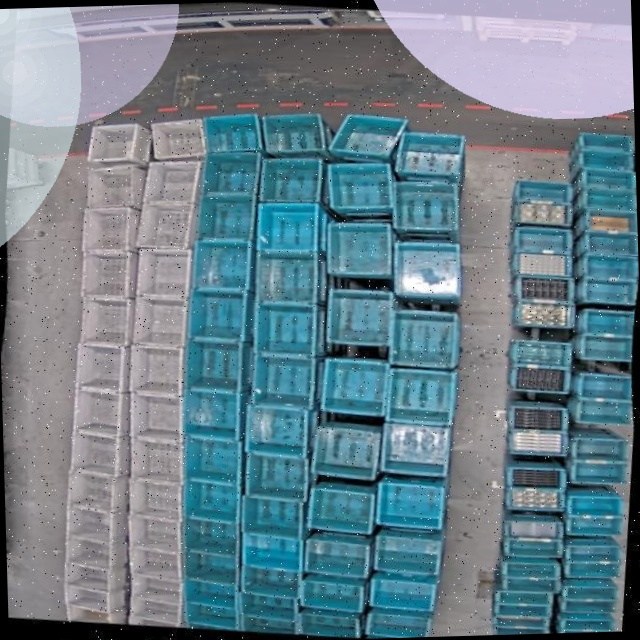Box: (323, 214, 399, 280), (326, 107, 414, 161), (317, 354, 391, 418), (384, 365, 459, 427), (309, 420, 386, 480), (389, 304, 461, 368), (392, 235, 464, 299), (386, 176, 463, 235), (325, 284, 397, 346), (325, 155, 399, 215), (253, 245, 324, 306), (255, 149, 330, 206), (393, 125, 469, 181), (250, 350, 318, 412), (254, 195, 323, 255), (180, 335, 251, 393), (254, 297, 321, 358), (381, 419, 452, 476), (184, 284, 251, 342), (199, 143, 267, 200), (306, 481, 378, 534), (259, 106, 332, 158), (243, 403, 313, 457), (143, 153, 210, 209), (375, 478, 448, 529), (242, 448, 312, 501), (190, 235, 255, 292), (195, 189, 261, 245), (134, 197, 203, 250), (182, 385, 247, 440), (80, 200, 143, 256), (201, 106, 269, 157), (82, 158, 147, 211), (136, 244, 197, 300), (77, 246, 141, 299), (240, 491, 309, 540), (179, 433, 244, 485), (127, 342, 188, 397), (129, 293, 191, 347), (75, 291, 135, 346), (69, 385, 133, 436), (148, 112, 212, 162), (128, 391, 189, 442), (376, 530, 445, 575), (88, 119, 153, 165), (126, 435, 187, 484), (68, 429, 130, 477), (65, 468, 131, 513), (303, 534, 371, 577), (71, 341, 128, 392), (242, 531, 308, 572), (299, 574, 367, 613), (182, 477, 240, 522), (130, 475, 186, 521), (127, 511, 184, 555), (182, 514, 240, 557), (370, 573, 437, 610), (65, 505, 128, 542), (66, 534, 130, 570), (128, 543, 186, 582), (181, 548, 240, 586), (365, 607, 435, 639), (63, 561, 127, 595), (512, 296, 577, 329), (511, 223, 578, 254), (507, 197, 574, 228), (179, 575, 238, 610), (64, 582, 127, 614), (508, 362, 573, 393), (506, 401, 567, 434), (241, 564, 300, 598), (509, 426, 570, 458), (511, 336, 573, 367), (512, 247, 574, 278), (503, 462, 567, 492), (296, 609, 362, 638), (240, 590, 299, 622), (515, 271, 576, 301), (577, 395, 636, 426), (504, 484, 567, 513), (514, 177, 577, 206), (128, 592, 185, 624), (130, 571, 183, 605), (582, 274, 640, 305), (572, 433, 628, 465), (502, 532, 567, 559), (576, 371, 633, 401), (583, 250, 639, 280), (580, 331, 634, 362), (572, 457, 629, 486), (184, 600, 241, 629), (568, 492, 625, 520), (503, 514, 564, 540), (567, 511, 624, 538), (583, 306, 636, 335), (586, 228, 638, 256), (586, 206, 638, 234), (566, 556, 624, 581), (565, 540, 623, 565), (500, 571, 563, 594), (583, 185, 637, 211), (562, 593, 622, 616), (579, 147, 634, 172), (562, 580, 619, 604), (493, 585, 555, 607), (579, 127, 635, 151), (67, 602, 128, 624), (241, 612, 299, 635), (584, 165, 636, 189), (503, 557, 562, 578), (491, 609, 553, 628), (562, 613, 618, 633), (493, 599, 554, 617), (494, 620, 547, 635), (560, 624, 616, 633), (496, 629, 557, 635)
